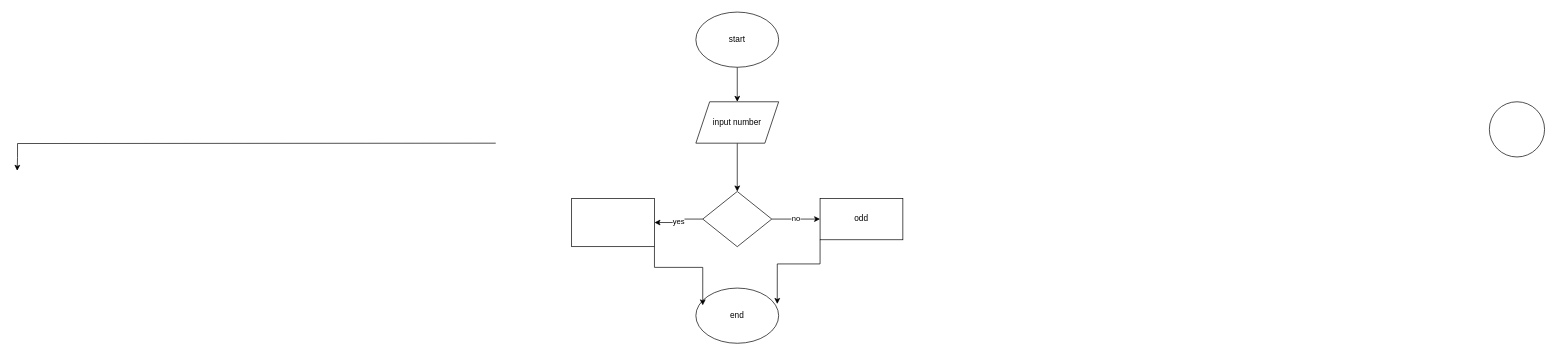
The diagram is 1557 pixels wide and 355 high, and some of its shapes have lost their labels. The shapes that lost their labels are listed below. From the top down, each one's centre as x and y in pixels, then its label:
At pixel 612 222: "even".
At pixel 737 219: "is divisble by 2".
